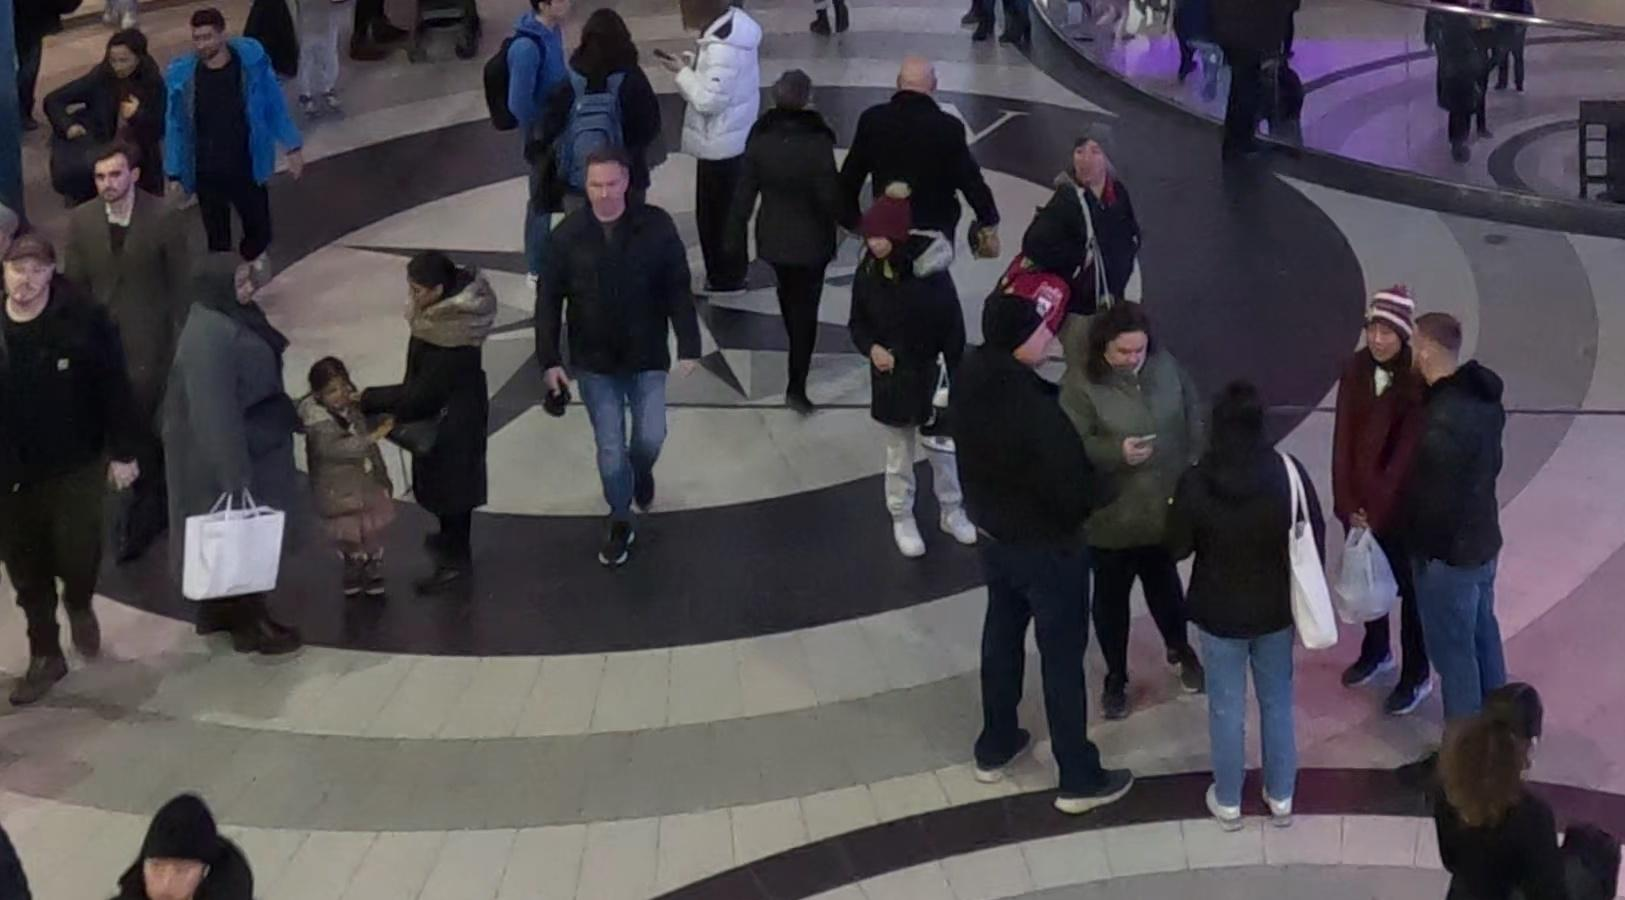person: (941, 262, 1122, 831), (1, 201, 143, 727), (1373, 305, 1528, 785), (1182, 375, 1336, 849), (1060, 299, 1226, 728), (544, 150, 706, 580), (161, 245, 291, 654), (1339, 275, 1448, 725), (852, 189, 974, 569), (740, 60, 867, 416), (382, 260, 500, 621), (167, 1, 283, 311), (844, 53, 989, 250), (297, 361, 400, 624), (1027, 127, 1149, 301)
